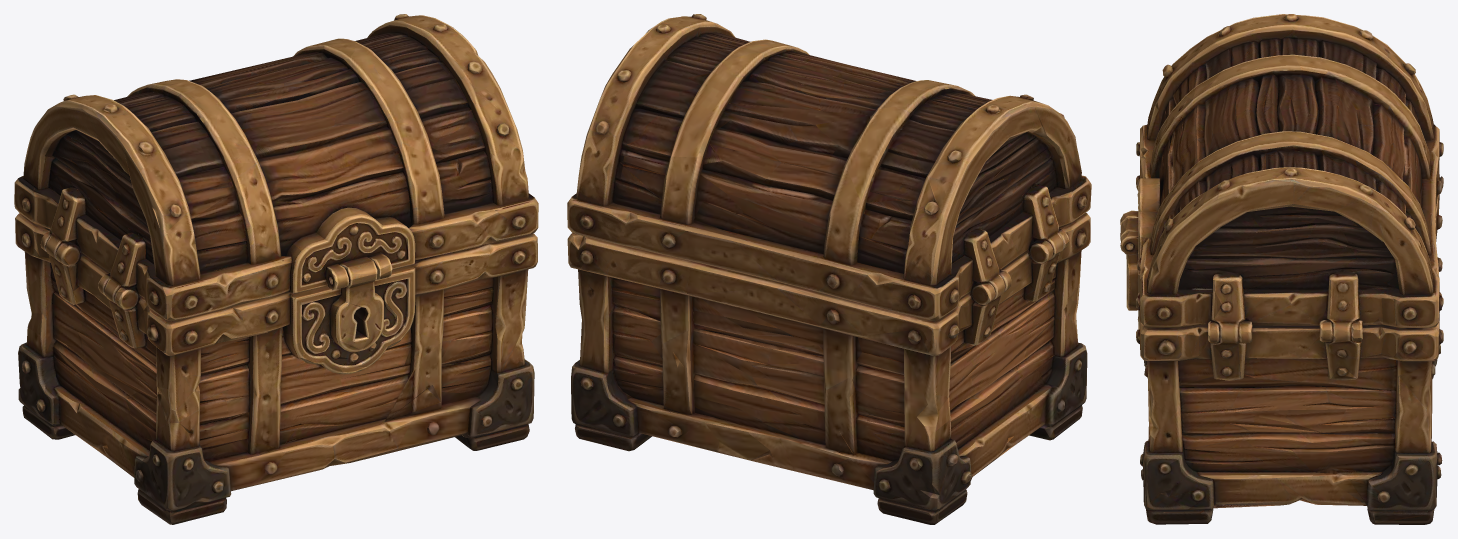
The model's file is coffre_jour.glb.
3 renders of one model, left to right at view 1: azimuth 30°, elevation 25°; view 2: azimuth 150°, elevation 25°; view 3: azimuth 270°, elevation 25°, orthographic. The views are drawn at different scales.
Size of the model in its own units: 1.9 by 1.65 by 1.39.
Materials: 1 (1 with a texture image).
